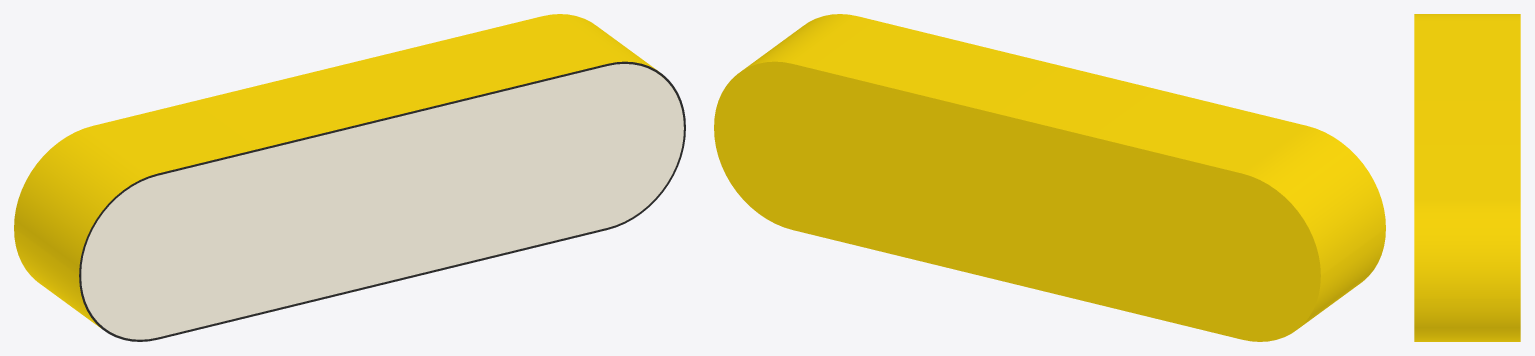
File: Toggles.glb
The picture shows the model from 3 angles, left to right: view 1: azimuth 30°, elevation 25°; view 2: azimuth 150°, elevation 25°; view 3: azimuth 270°, elevation 25°; orthographic projection. The views are drawn at different scales.
Visible parts, largest first — view 1: TOGGLE_Note3; view 2: TOGGLE_Note3; view 3: TOGGLE_Note3.
Part boxes in pixels (<box>): TOGGLE_Note3: <box>14,14,685,341</box>; TOGGLE_Note3: <box>714,14,1385,341</box>; TOGGLE_Note3: <box>1414,14,1520,341</box>.
Bounding box in the file's own units: 7.64 × 2 × 1.42.
